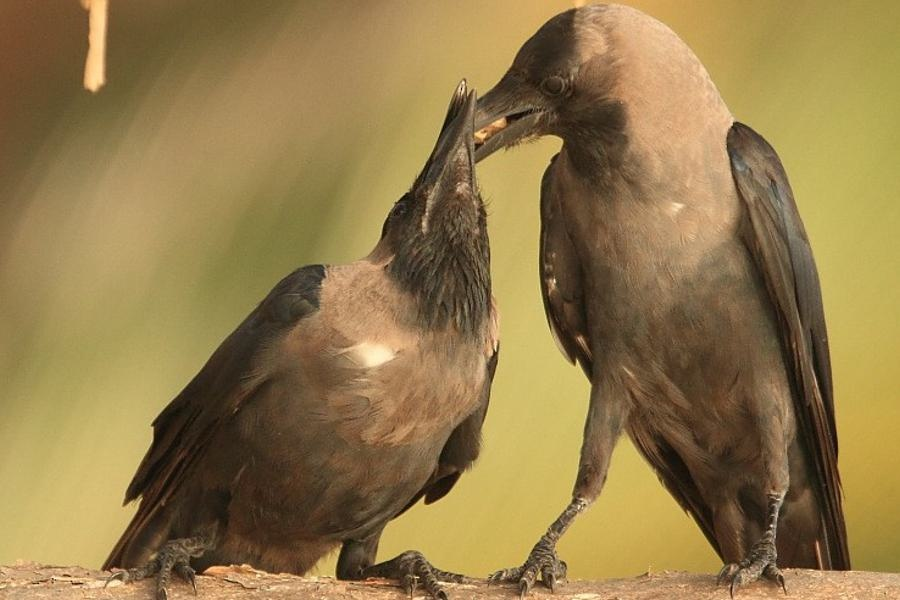crow: (473, 20, 850, 600), (110, 68, 492, 573)
